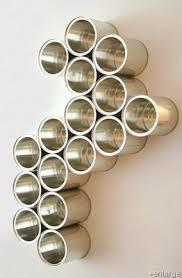Tin: (3, 9, 182, 265)
